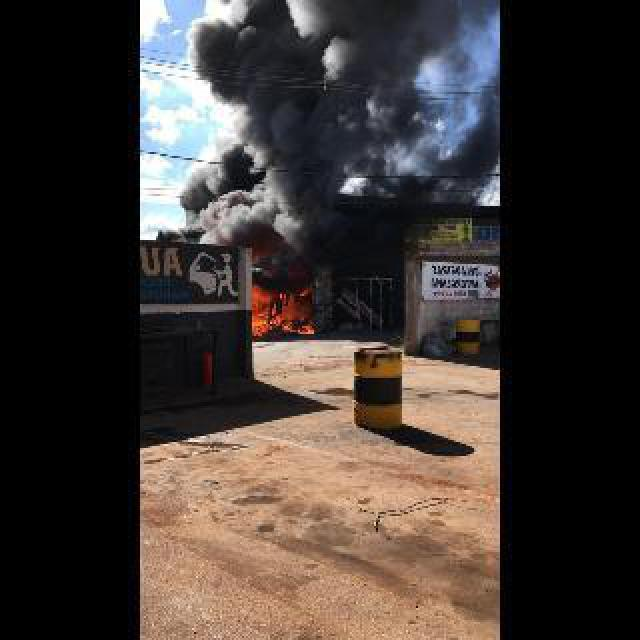fire: (252, 286, 314, 336)
smoke: (176, 0, 494, 192)
